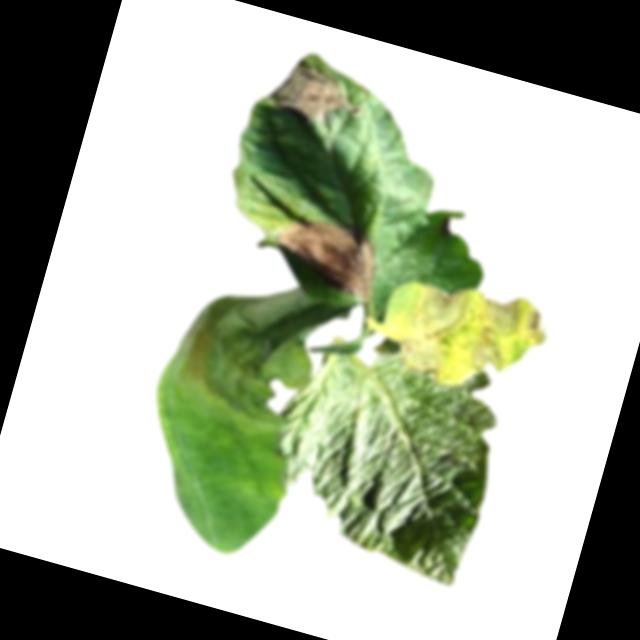Late_blight: (160, 262, 354, 430), (370, 263, 556, 409), (263, 203, 393, 306), (265, 53, 357, 130)
healthy: (245, 324, 516, 589)
